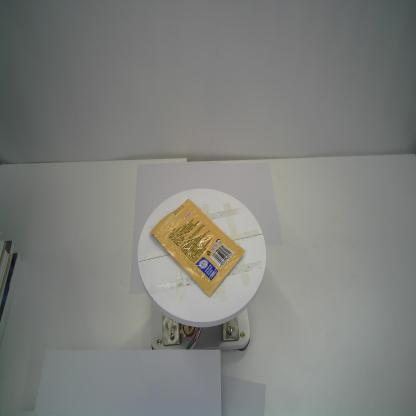Seasoner: (148, 198, 245, 298)
